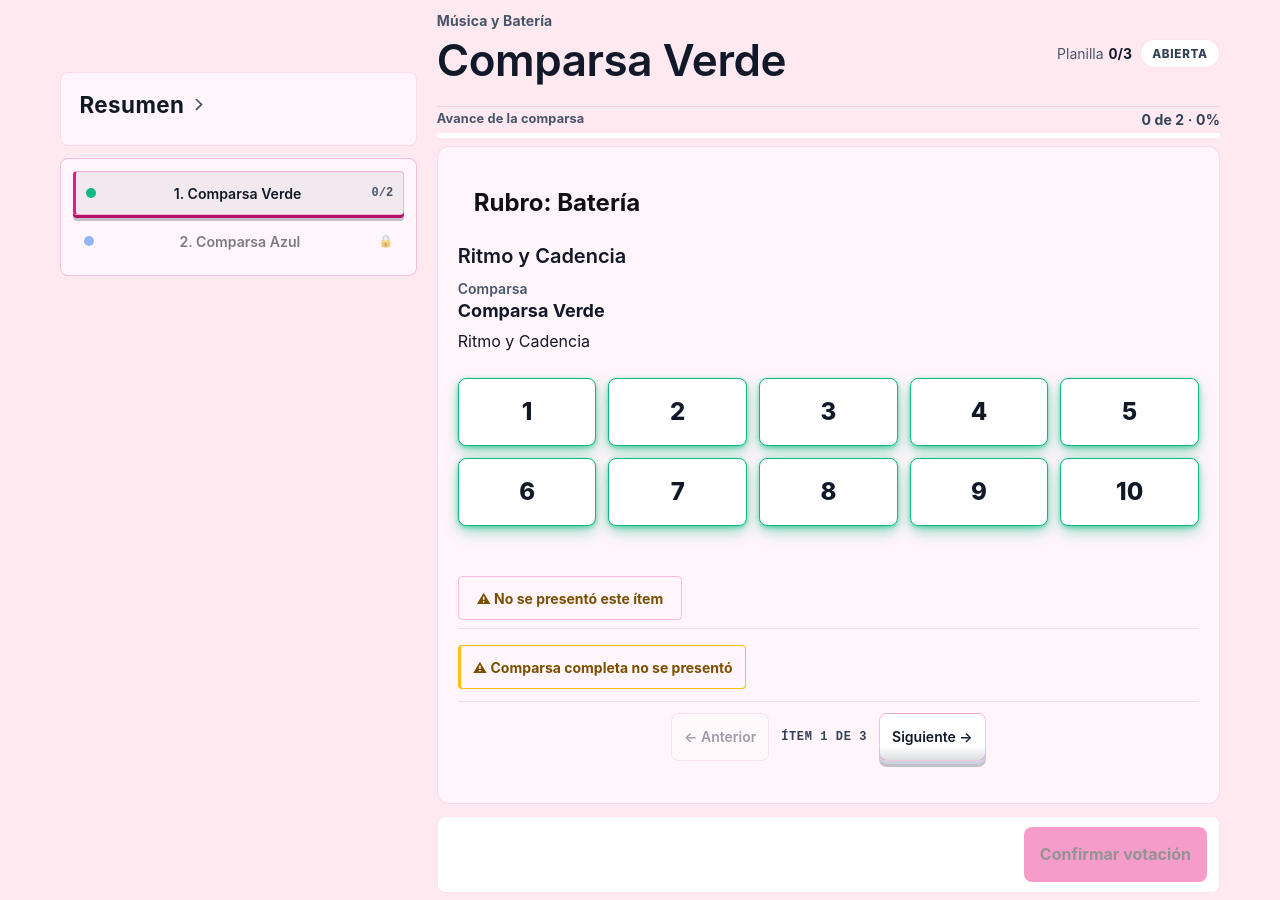
JudgeBallotPage v3 (Spec 021) › no regresa a la primera tarjeta al confirmar un voto en modo tarjeta
The width and height of the screenshot is (1280, 900).
Check: the heading "Comparsa Verde" is shown, box x1=437 y1=37 x2=786 y2=83
Check: the heading "Ritmo y Cadencia" is shown, box x1=458 y1=244 x2=626 y2=268
Note: Avanzar a la segunda tarjeta (Afinación)
Click the button with aria-label "Ítem siguiente".
click(932, 736)  # box x1=879 y1=712 x2=986 y2=760
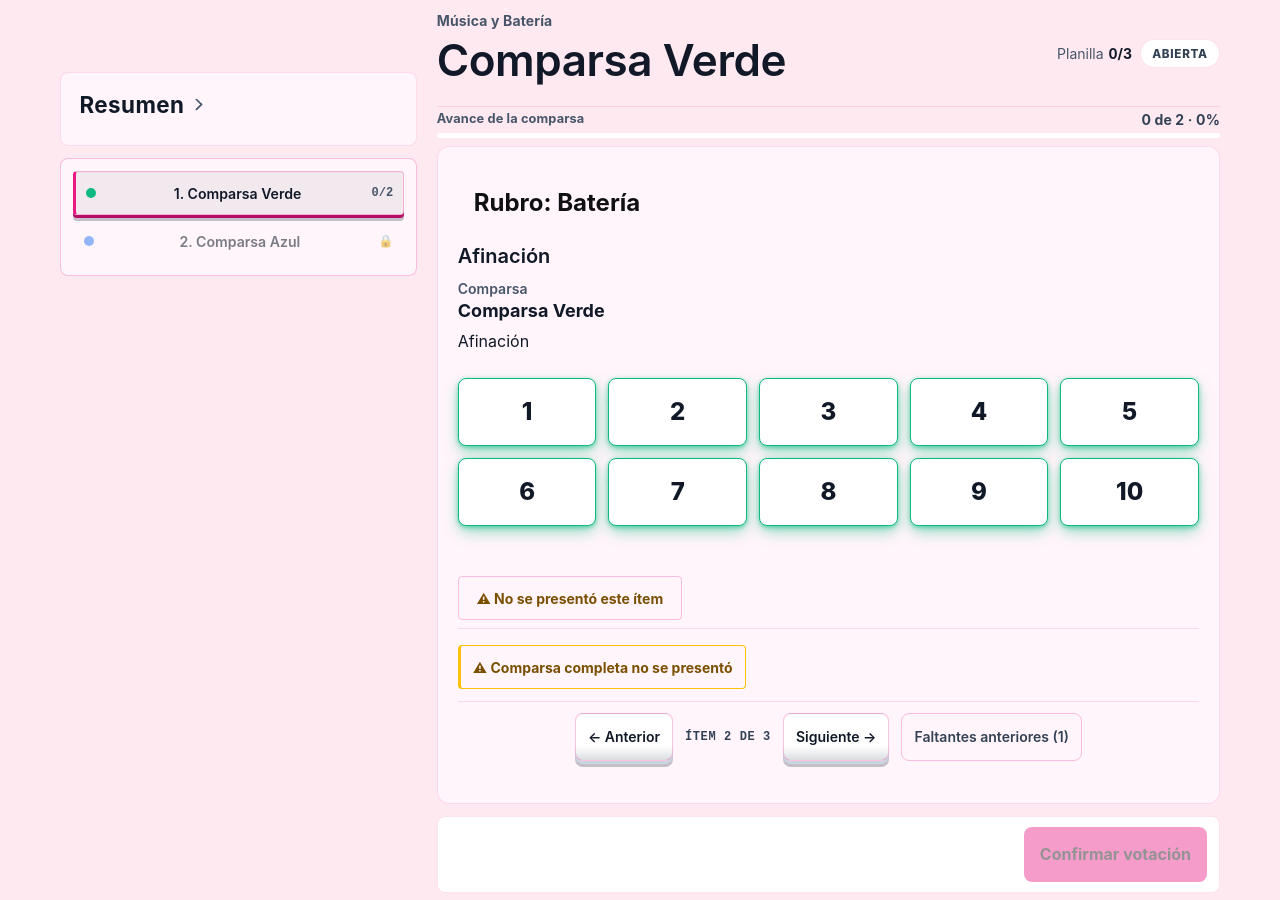
Check: the heading "Afinación" is shown, box x1=458 y1=244 x2=550 y2=268
Note: Votar 7 y confirmar en el modal
Click the button named "Votar 7".
click(678, 492)  # box x1=608 y1=458 x2=747 y2=526
(page scrolled)
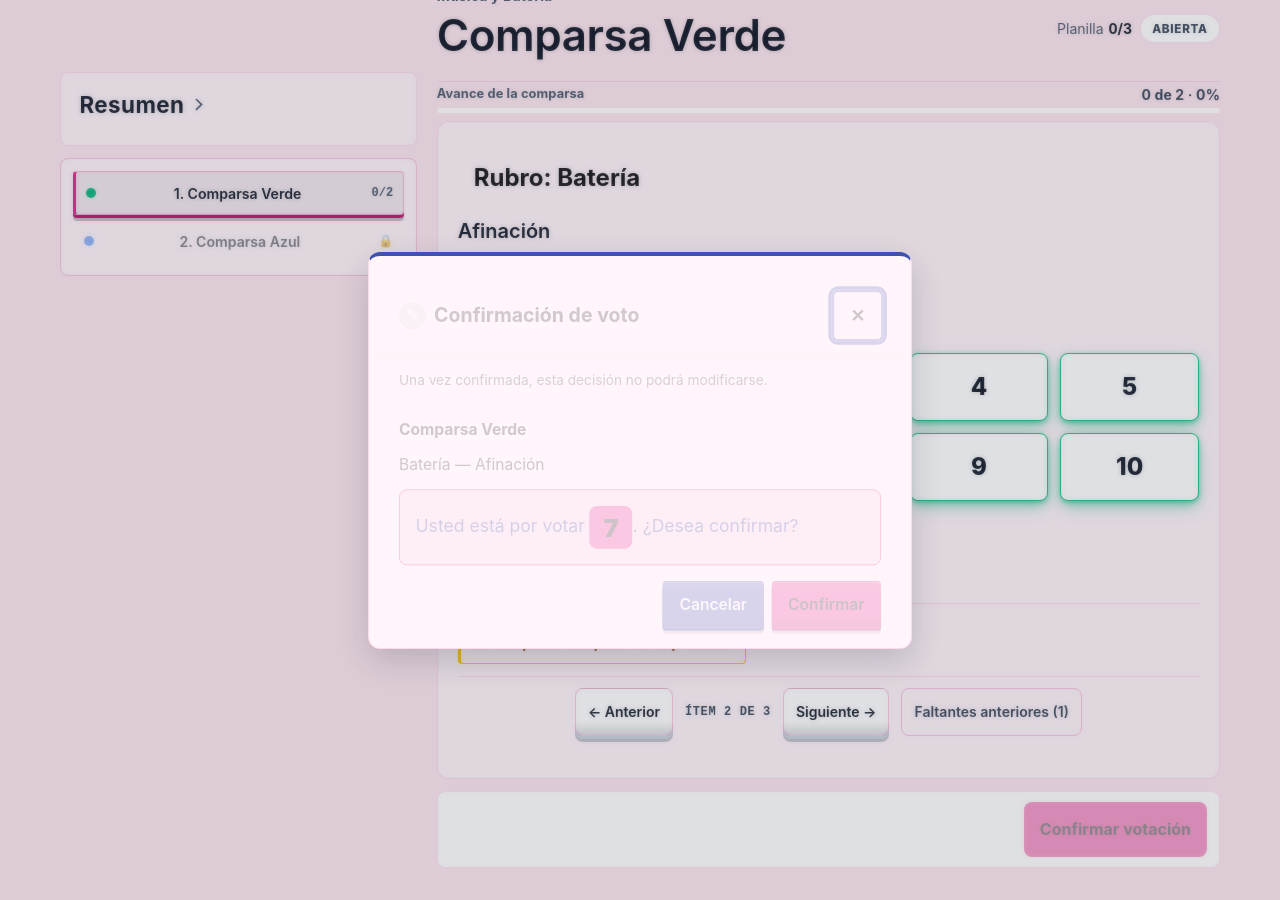
Click the button "Confirmar".
click(826, 604)  # box x1=772 y1=580 x2=881 y2=627
(page scrolled)
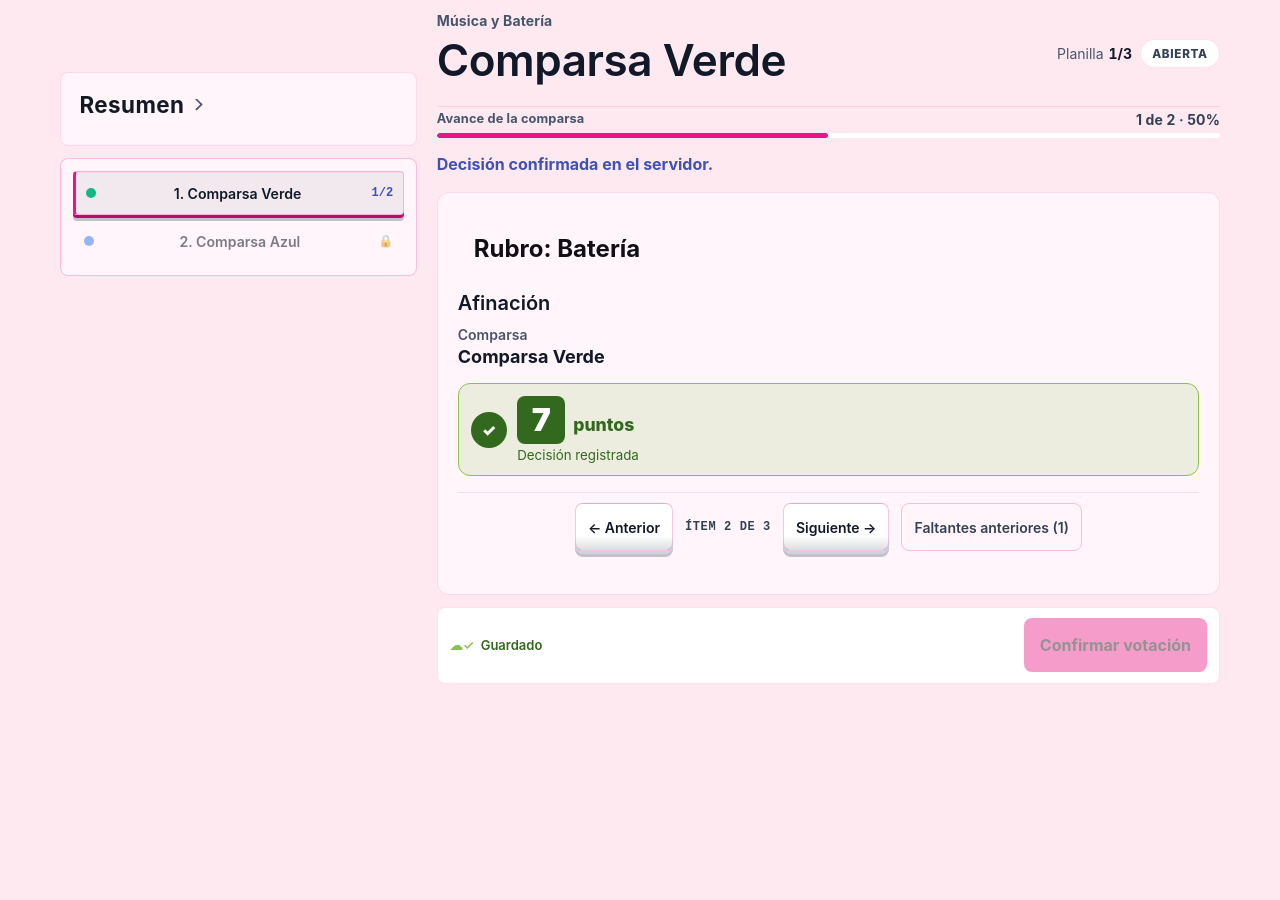
Check: the heading "Ritmo y Cadencia" is not shown
Check: the heading "Afinación" is shown, box x1=458 y1=291 x2=550 y2=315
Check: the text "Decisión registrada" is shown, box x1=517 y1=447 x2=639 y2=463
